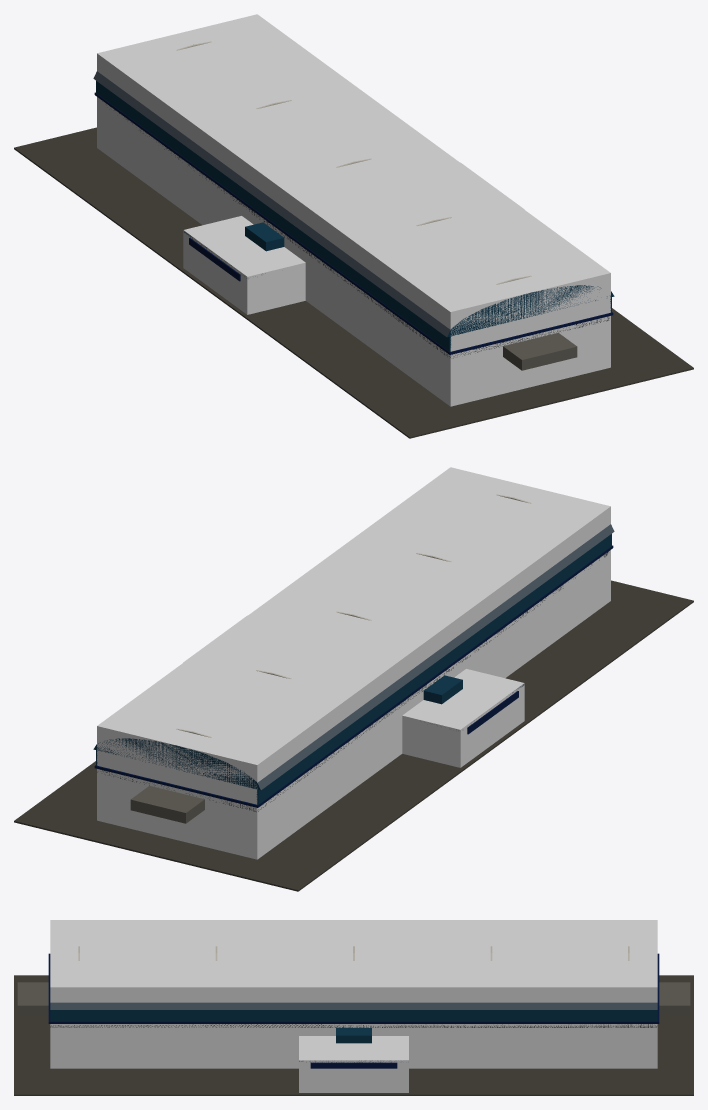
File: B46_metro_modern.glb
3 views of the same model, one above another, from view 1: azimuth 30°, elevation 25°; view 2: azimuth 150°, elevation 25°; view 3: azimuth 270°, elevation 25° (orthographic). The views are drawn at different scales.
Parts seen in each view (by area): view 1: COL_Main, LOD0, COL_Plazas; view 2: COL_Main, LOD0, COL_Plazas; view 3: COL_Main, LOD0, COL_Plazas.
Boxes of the visible parts, x1=… form: COL_Main: x1=97, y1=14, x2=610, y2=406; LOD0: x1=14, y1=41, x2=693, y2=438; COL_Plazas: x1=183, y1=162, x2=524, y2=314; COL_Main: x1=97, y1=467, x2=610, y2=859; LOD0: x1=14, y1=494, x2=693, y2=891; COL_Plazas: x1=183, y1=615, x2=524, y2=767; COL_Main: x1=50, y1=920, x2=657, y2=1068; LOD0: x1=14, y1=946, x2=693, y2=1095; COL_Plazas: x1=299, y1=1036, x2=408, y2=1092.
Size of what is drawn, in the model's own units: 39 by 12.74 by 94.
